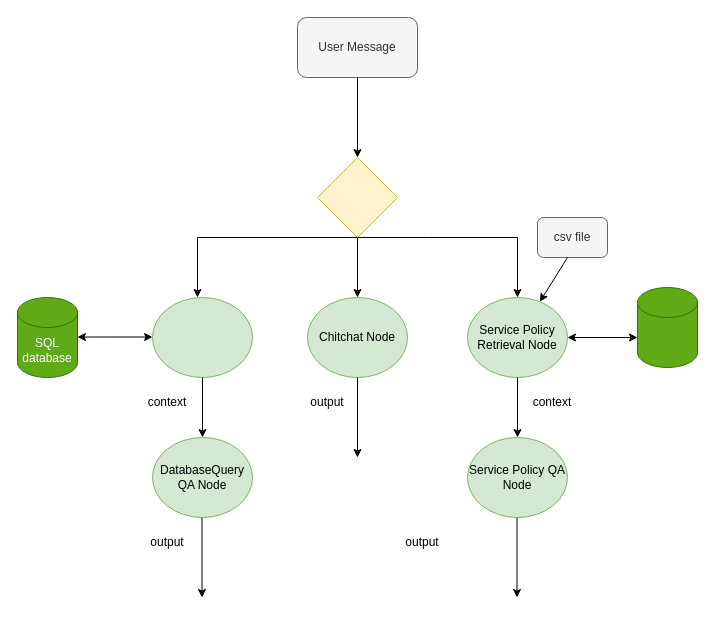
The diagram is 715 pixels wide and 623 high, and some of its shapes have lost their labels. Here are the shapes that lost their labels. From the top down, the centre of each, then its label:
At (x=357, y=197): "Decision Node".
At (x=202, y=337): "SQL Retrieval Node".
At (x=667, y=327): "vector database".
